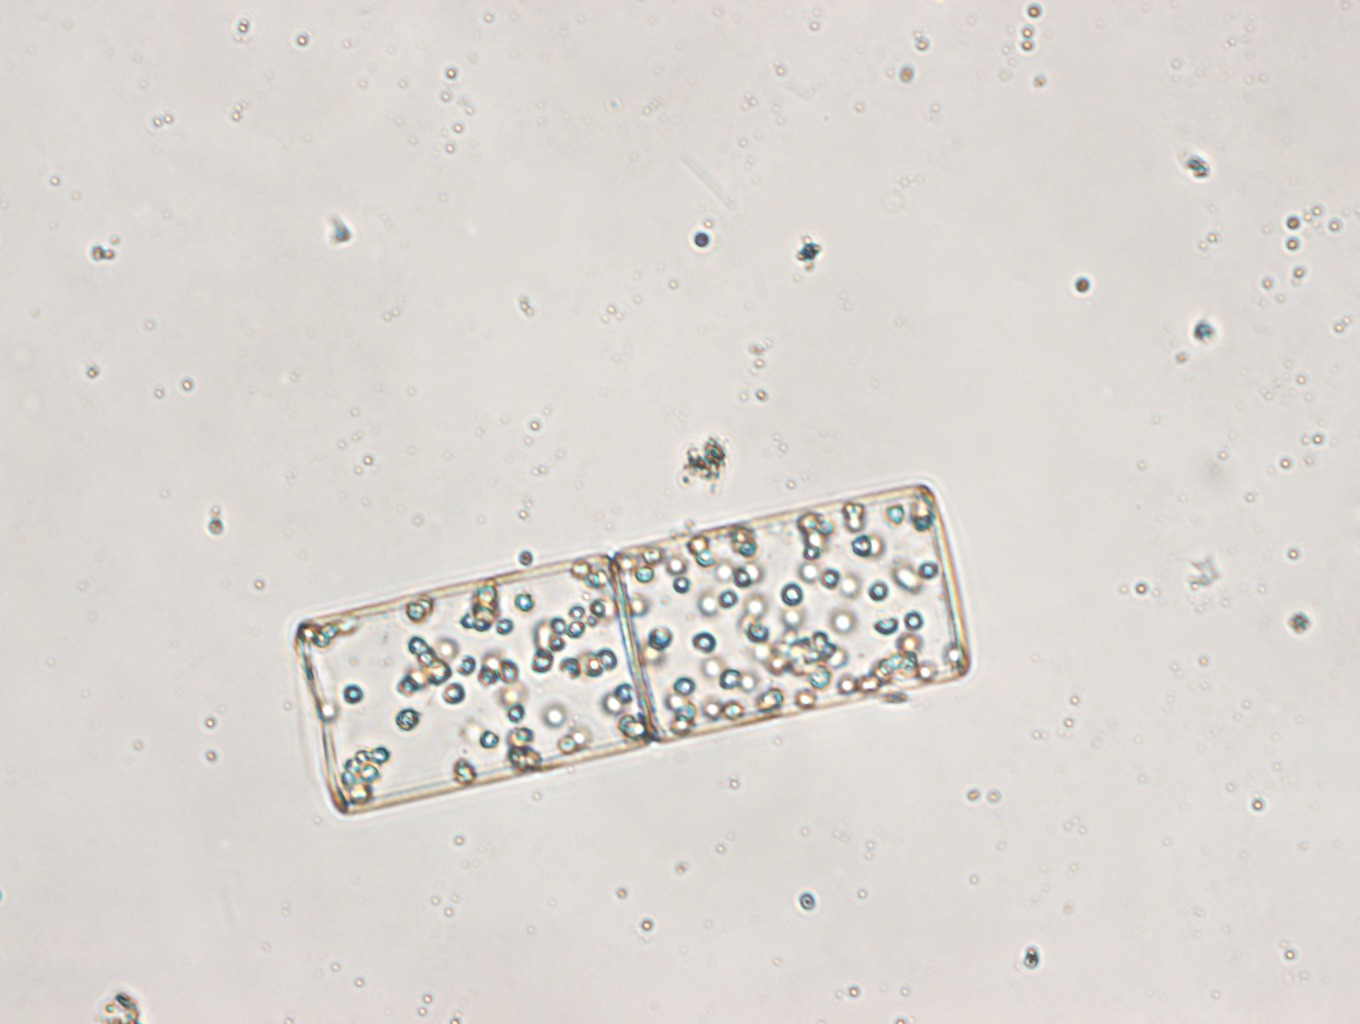guinardia flaccida: (286, 478, 977, 819)
